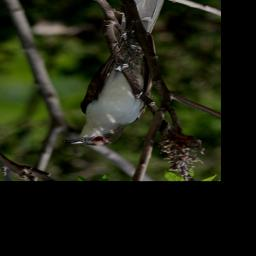Cuckoo: (62, 0, 169, 149)
